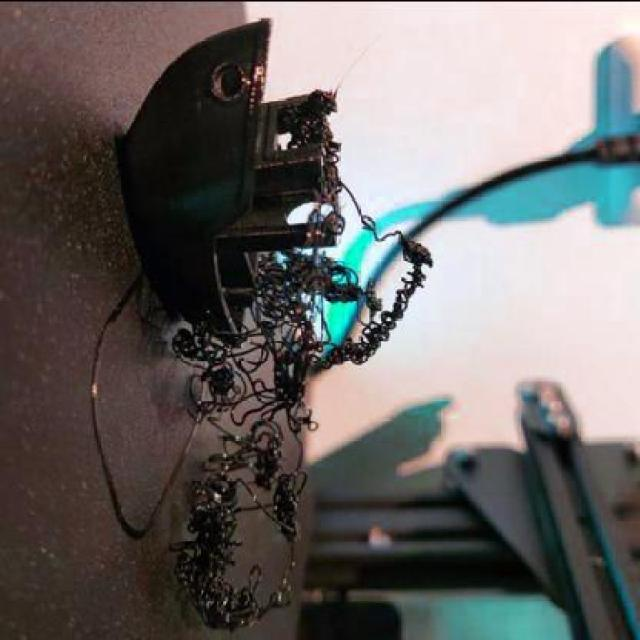Spaghetti: (170, 198, 436, 632), (281, 89, 344, 194)
